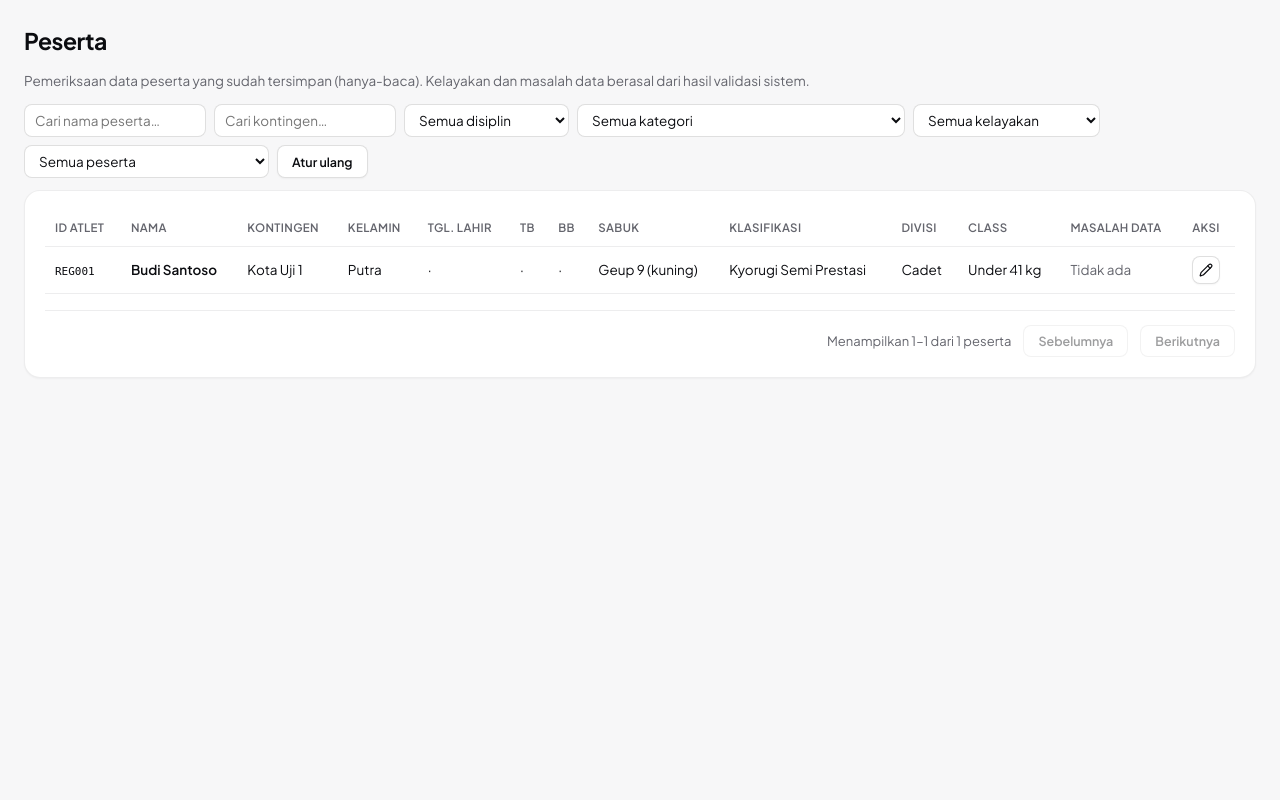
Test: PesertaPage › never labels a value "tidak dikenali" just because the rule set vocabulary failed to load -- shows a clear warning instead
Expected: the row with test id "entry-row" is shown, 45,247 -> 1235,294
Click the button named "Perbaiki data Budi Santoso" at (1206, 270), box 1192,256 -> 1220,284
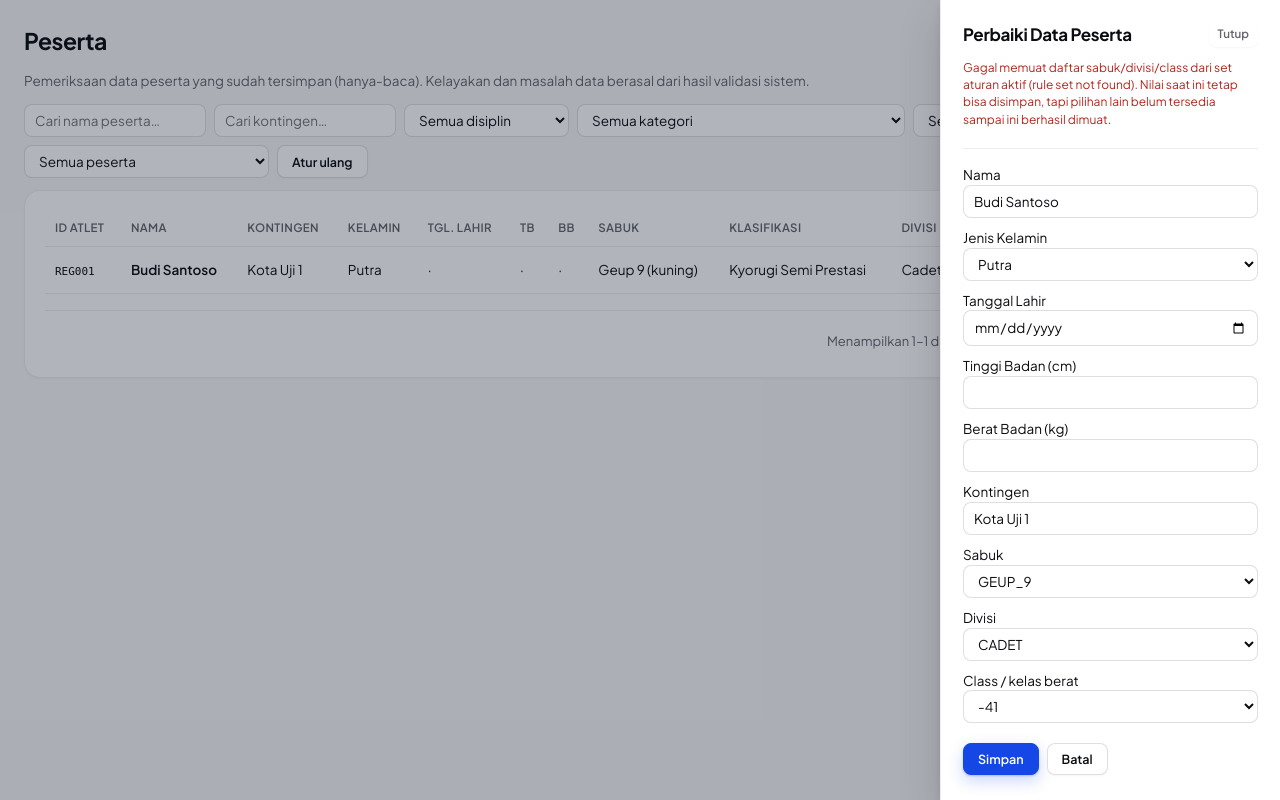
Expected: the text "Gagal memuat daftar sabuk/divisi/class" is shown, 963,60 -> 1232,92
